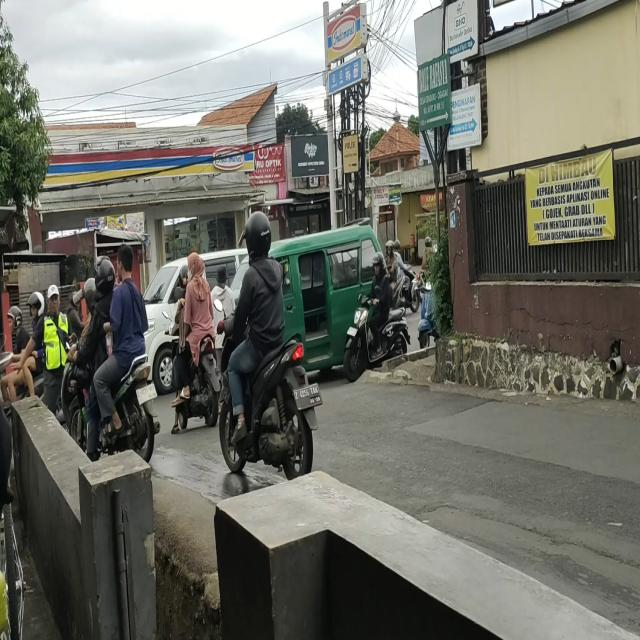helmet: (243, 208, 273, 260), (92, 254, 114, 298), (76, 278, 95, 308), (28, 288, 45, 316), (7, 305, 22, 331), (372, 250, 386, 273)
no-helmet: (116, 247, 136, 286), (188, 251, 204, 280)
